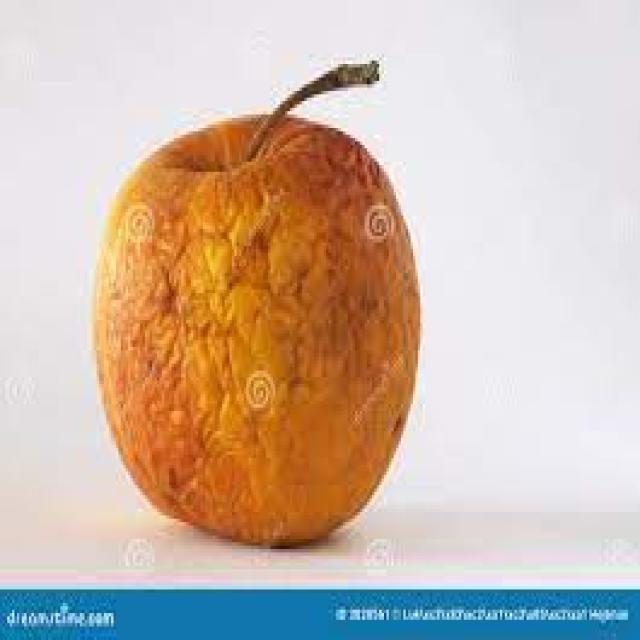overripe: (86, 105, 425, 552)
